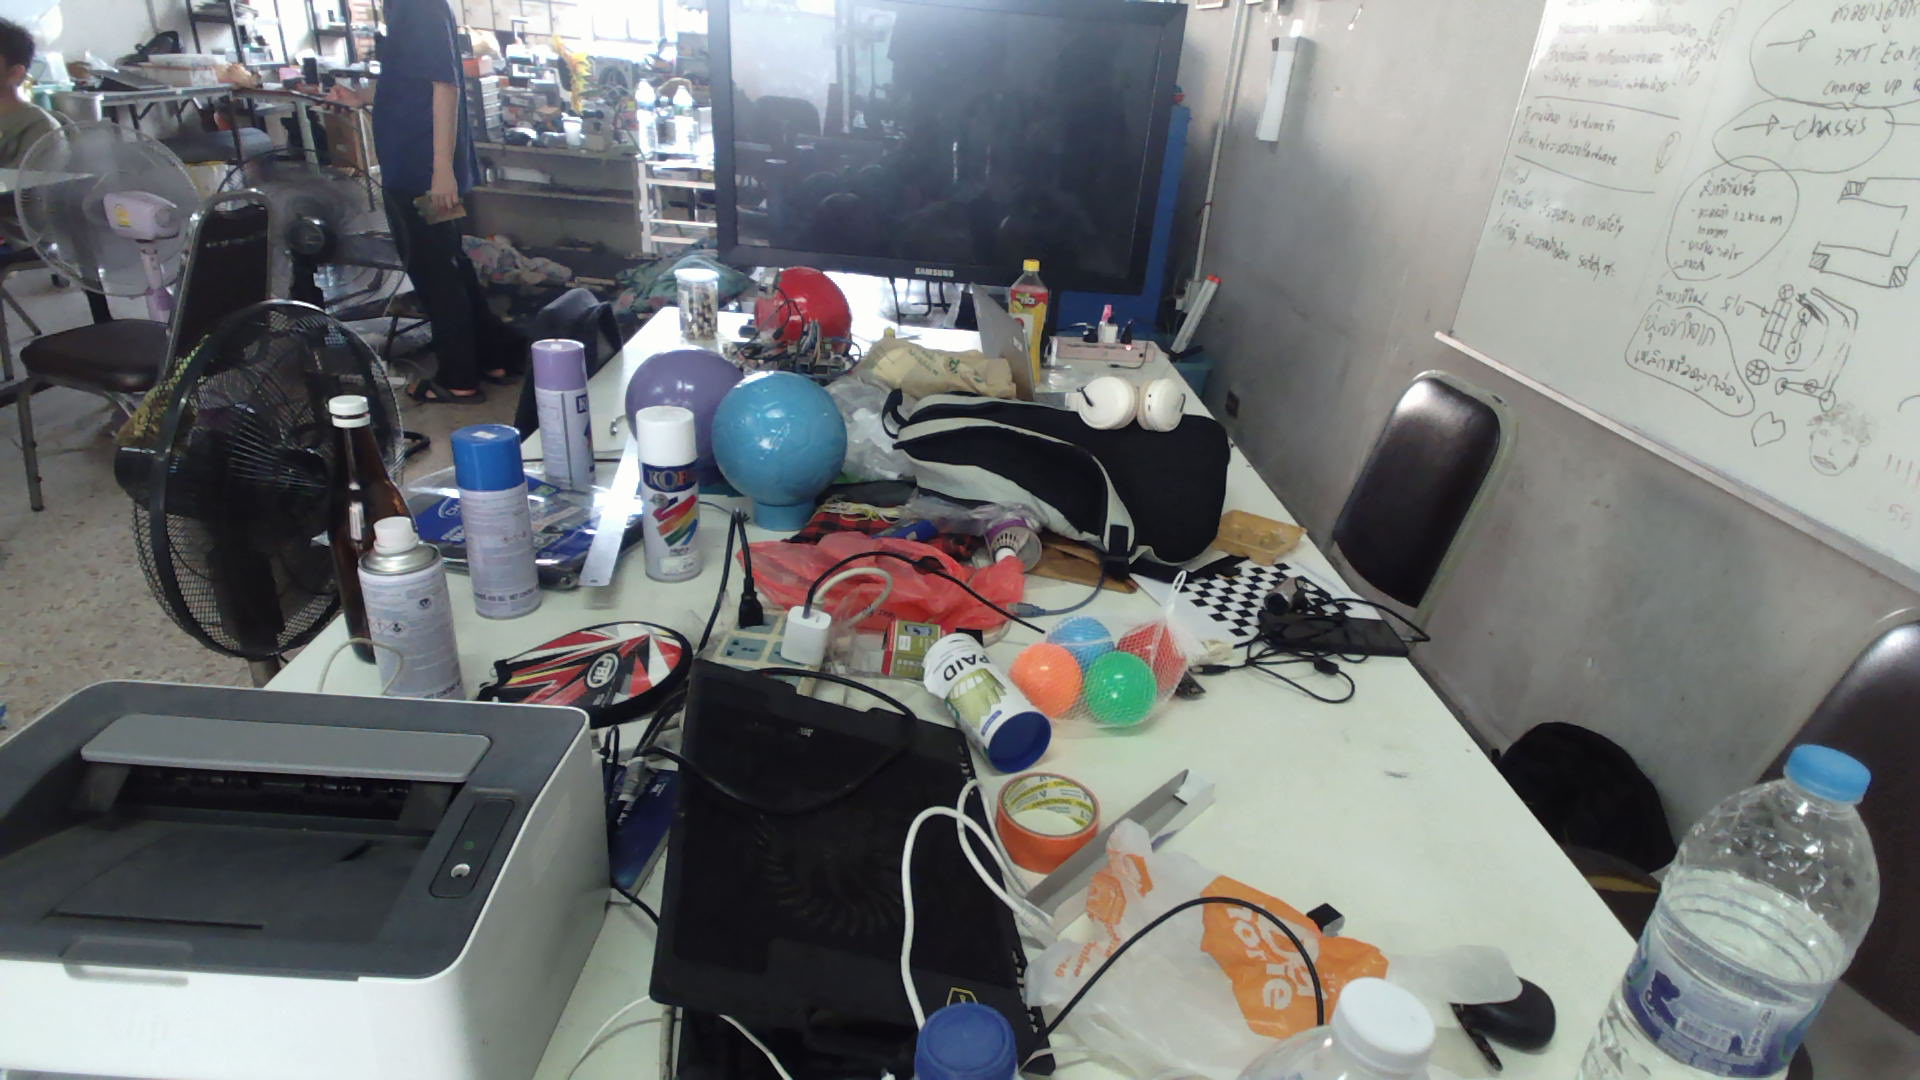Blue ball: (709, 369, 849, 505)
Purple ball: (622, 345, 744, 429)
Red ball: (764, 265, 852, 326)
